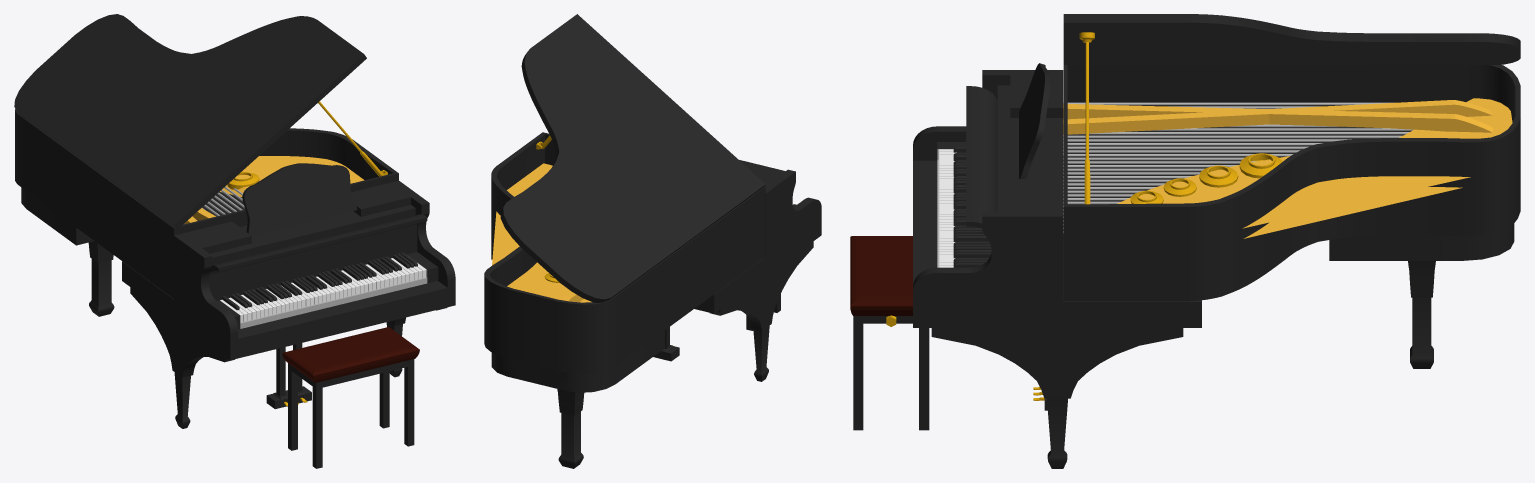
Rendered from PIANO DE CALDA 12.fbx.
3 views of the same model, side by side, from view 1: azimuth 30°, elevation 25°; view 2: azimuth 150°, elevation 25°; view 3: azimuth 270°, elevation 25° (orthographic). The views are drawn at different scales.
Visible parts, largest first — view 1: tampa.001, tampa, calda, base, partitura, Cube.045, Cube.044, Cube, base3, teclado, calda2, Cylinder (+1 smaller); view 2: tampa.001, calda, base, base3, tampa, calda2; view 3: calda, tampa, tampa.001, base, Cylinder, perna.001, calda2, base3, Cube.045, Cube.044, partitura, Cube (+2 smaller).
Part boxes in pixels (box(x1,y1,x2,y2)): tampa.001: box(14, 14, 366, 230); tampa: box(174, 180, 455, 340); calda: box(15, 109, 398, 298); base: box(122, 261, 455, 428); partitura: box(242, 163, 357, 235); Cube.045: box(282, 327, 419, 382); Cube.044: box(288, 359, 414, 468); Cube: box(220, 258, 426, 322); base3: box(21, 187, 114, 316); teclado: box(217, 252, 438, 329); calda2: box(220, 156, 364, 196); Cylinder: box(202, 186, 244, 215); tampa.001: box(500, 14, 765, 302); calda: box(484, 132, 765, 374); base: box(491, 216, 821, 381); base3: box(491, 330, 664, 468); tampa: box(739, 160, 821, 256); calda2: box(492, 163, 586, 302); calda: box(1063, 65, 1520, 301); tampa: box(913, 70, 1063, 310); tampa.001: box(1063, 14, 1520, 65); base: box(913, 157, 1201, 468); Cylinder: box(1063, 102, 1413, 233); perna.001: box(1063, 100, 1493, 134); calda2: box(1117, 98, 1512, 238); base3: box(1329, 223, 1514, 368); Cube.045: box(850, 236, 912, 315); Cube.044: box(853, 316, 929, 430); partitura: box(1019, 63, 1050, 178); Cube: box(938, 149, 956, 267).
Bounding box in the file's own units: 120 × 166 × 232.
